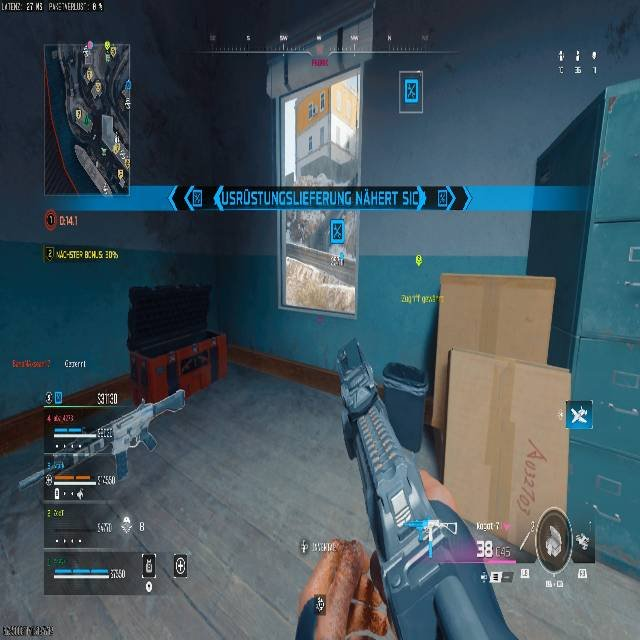player: (575, 531, 590, 550)
